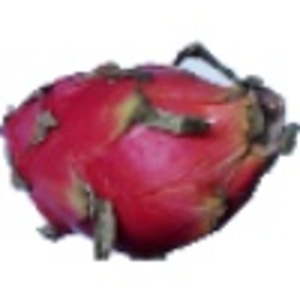pitaia: (1, 41, 300, 262)
